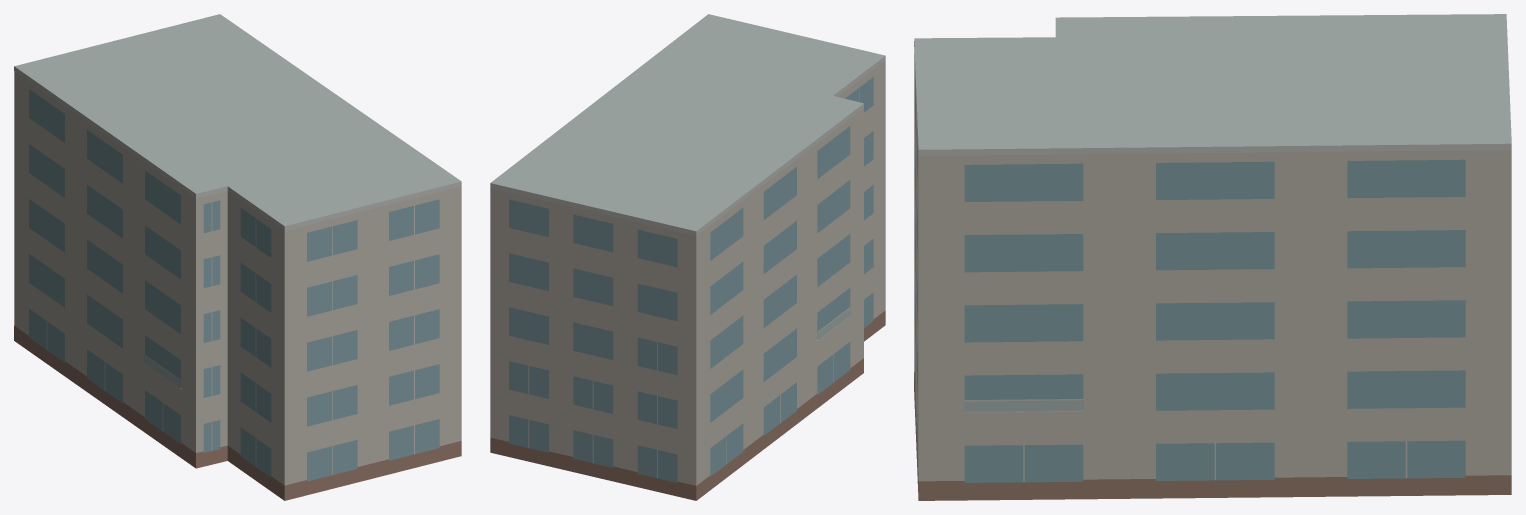
The model's file is survey-upis-32988975.glb.
3 views of the same model, side by side, from view 1: azimuth 30°, elevation 25°; view 2: azimuth 150°, elevation 25°; view 3: azimuth 270°, elevation 25° (orthographic). The views are drawn at different scales.
Parts seen in each view (by area): view 1: survey-upis-32988975.tmp; view 2: survey-upis-32988975.tmp; view 3: survey-upis-32988975.tmp.
Boxes of the visible parts, x1,y1,x2,y2 form: survey-upis-32988975.tmp: [14, 14, 461, 500]; survey-upis-32988975.tmp: [490, 14, 885, 500]; survey-upis-32988975.tmp: [914, 14, 1511, 500].
Bounding box in the file's own units: 11.69 × 14.08 × 21.73.
